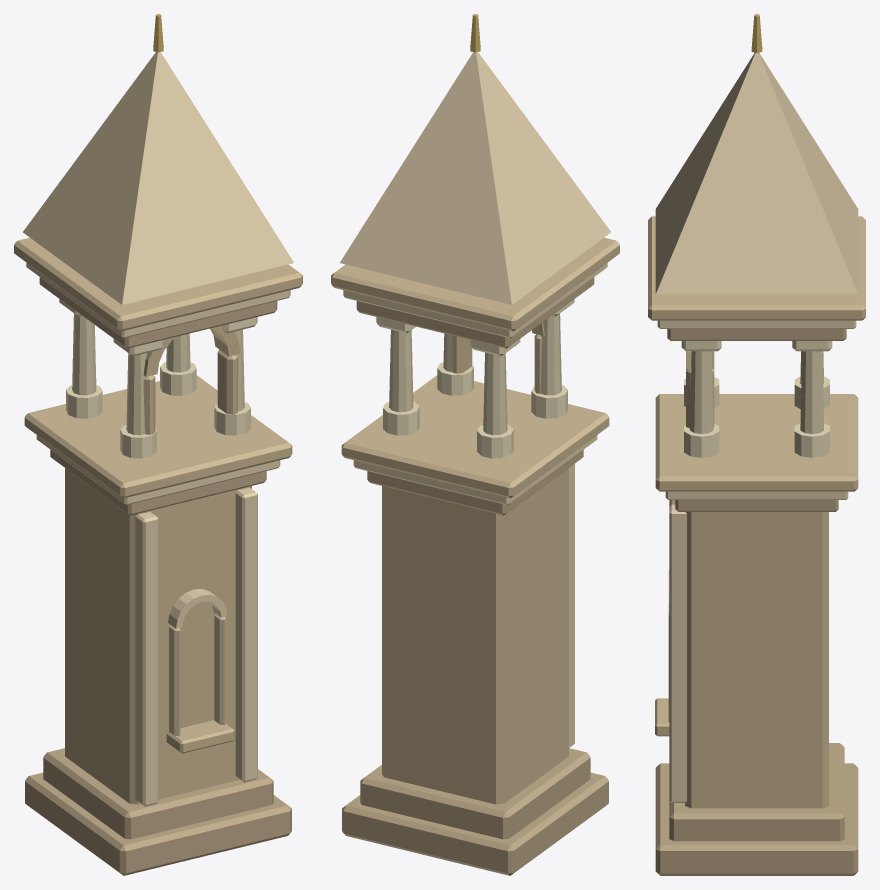
Rendered from city-spire.glb.
3 views of the same model, side by side, from view 1: azimuth 30°, elevation 25°; view 2: azimuth 150°, elevation 25°; view 3: azimuth 270°, elevation 25° (orthographic).
Visible parts, largest first — view 1: Cube; view 2: Cube; view 3: Cube.
Part boxes in pixels (left/top/right/bottom): Cube: left=14, top=14, right=302, bottom=875; Cube: left=331, top=14, right=619, bottom=875; Cube: left=648, top=14, right=865, bottom=875.
Size of the model in its own units: 0.28 by 1.16 by 0.28.
